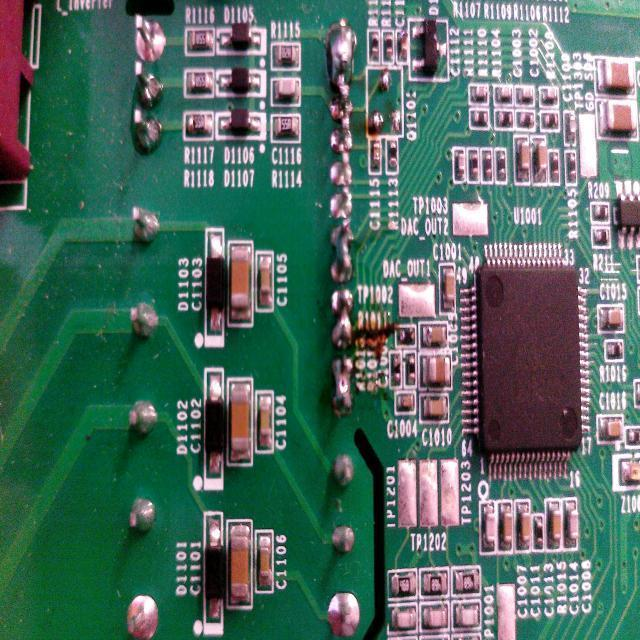Soldering shorted: (322, 88, 362, 153), (325, 12, 356, 87), (323, 286, 358, 352), (328, 354, 358, 424), (329, 224, 356, 284)
